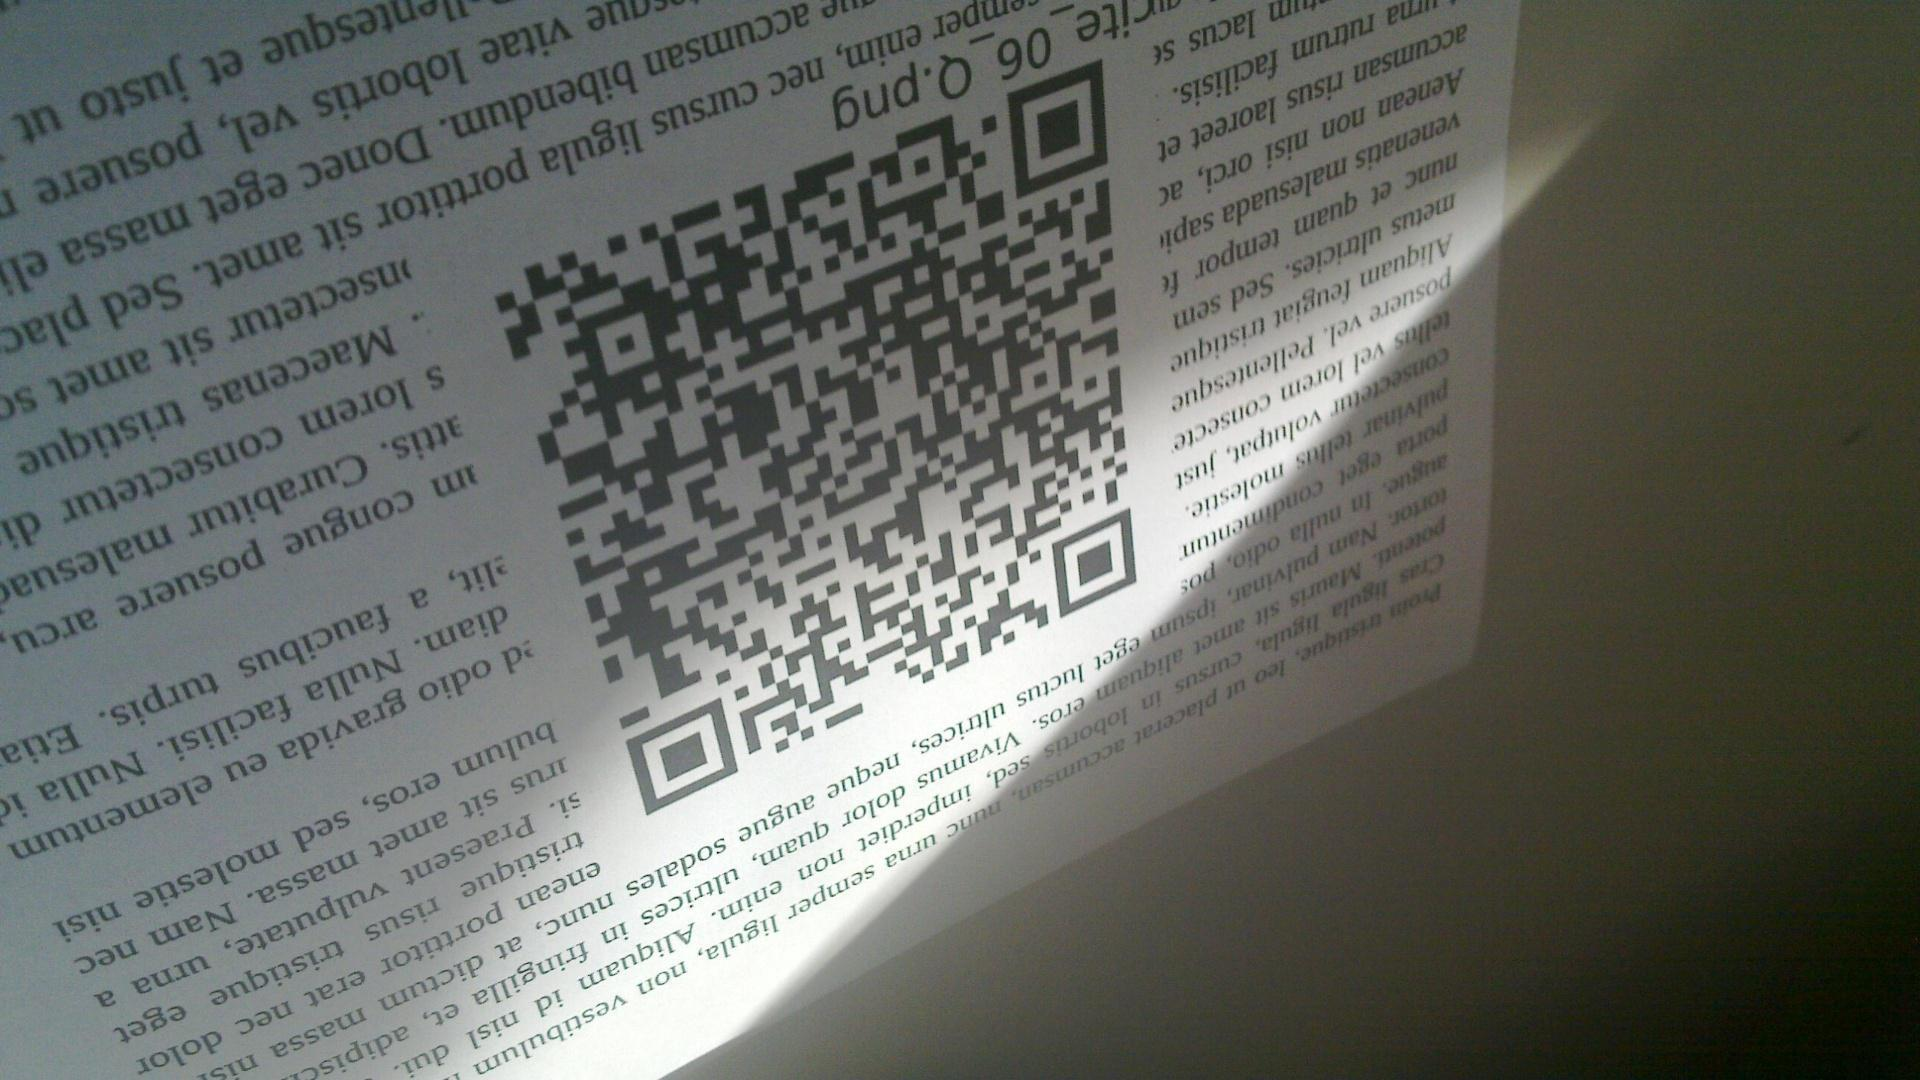Finder pattern: (1001, 61, 1113, 196), (616, 704, 740, 814), (1048, 509, 1138, 626)
